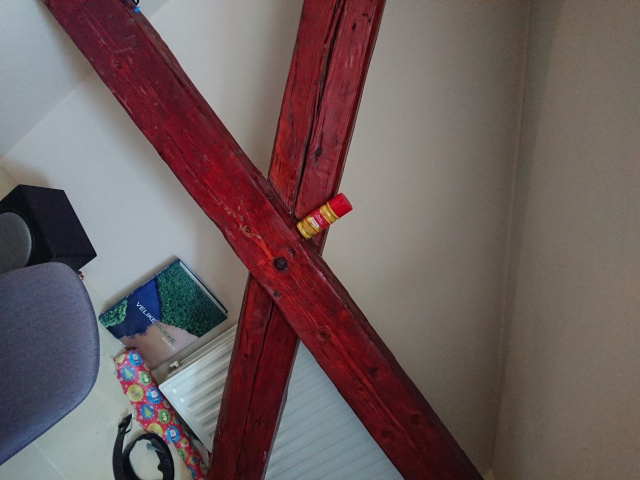Kotanyi Curry Spices Mix 70g: (295, 191, 355, 243)
